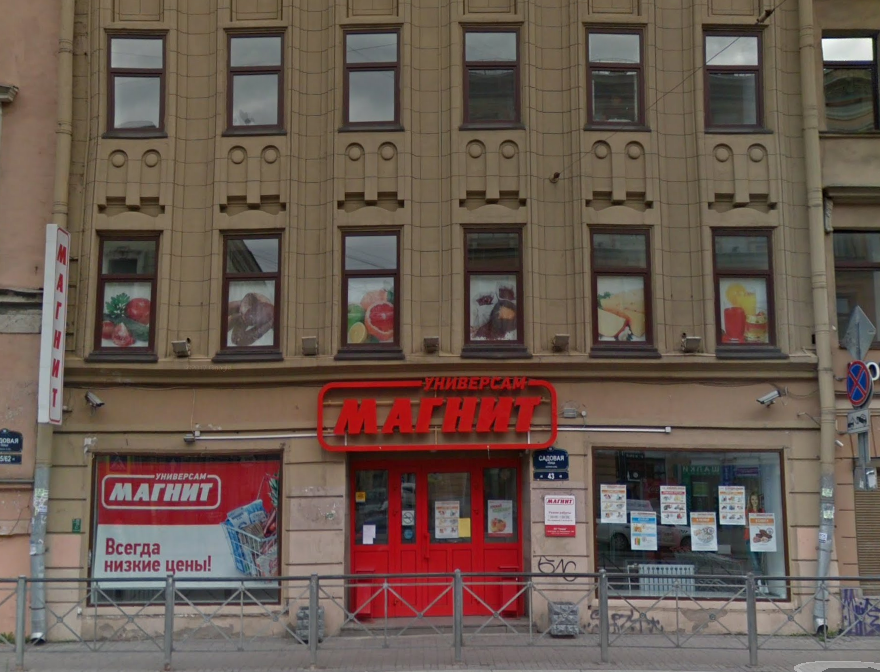cantilever: (37, 215, 78, 430)
door: (395, 464, 477, 617)
signboard: (301, 362, 567, 458)
win_ad: (93, 457, 280, 586), (595, 273, 649, 343), (717, 277, 769, 341), (103, 279, 151, 348), (349, 276, 396, 345), (471, 273, 518, 340), (228, 280, 274, 344)
window: (586, 439, 793, 602), (87, 447, 282, 605), (345, 460, 524, 545), (581, 222, 658, 360), (458, 224, 530, 360), (708, 225, 778, 358), (337, 224, 405, 360), (214, 228, 280, 360), (95, 224, 158, 359), (700, 21, 769, 139), (580, 21, 653, 132), (458, 20, 524, 132), (819, 24, 878, 137), (340, 20, 400, 130), (107, 30, 165, 137), (227, 30, 280, 137)
